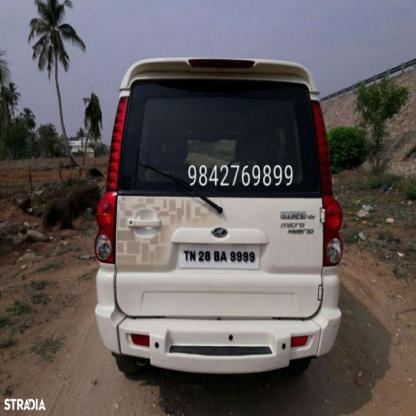license_plate: (178, 242, 260, 270)
